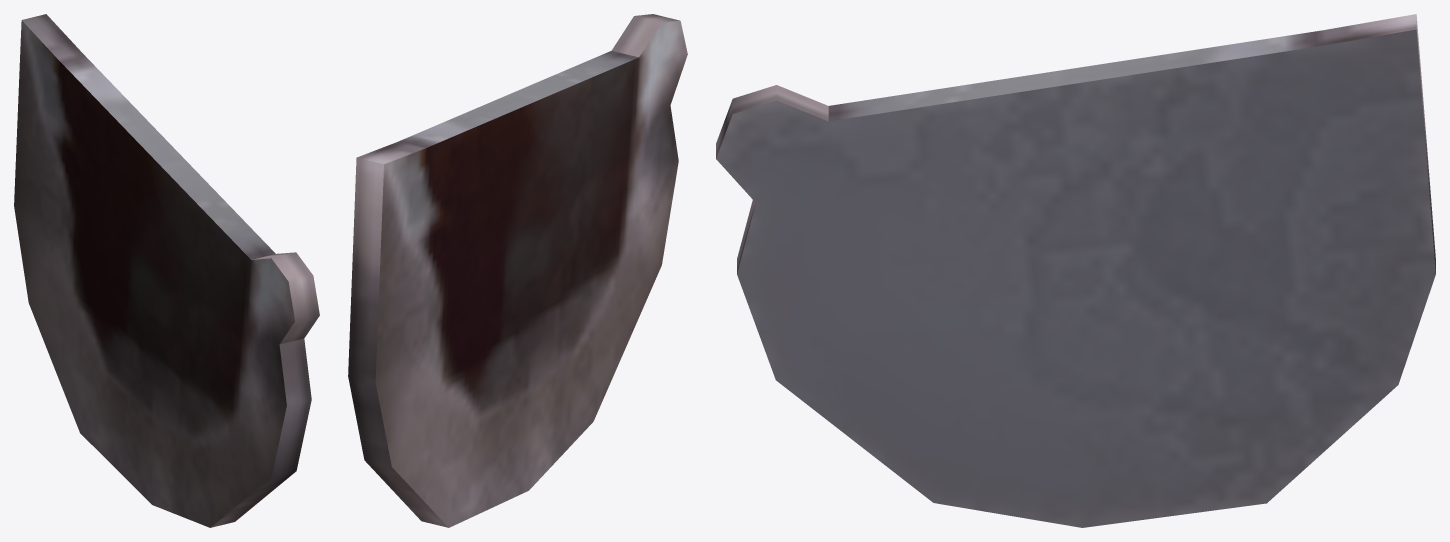
The model's file is PropRoofDrainage01_2.FBX.
3 views of the same model, side by side, from view 1: azimuth 30°, elevation 25°; view 2: azimuth 150°, elevation 25°; view 3: azimuth 270°, elevation 25° (orthographic). The views are drawn at different scales.
Visible parts, largest first — view 1: PropRoofDrainage01_2; view 2: PropRoofDrainage01_2; view 3: PropRoofDrainage01_2.
Part boxes in pixels (left/top/right/bottom): PropRoofDrainage01_2: left=14, top=14, right=319, bottom=527; PropRoofDrainage01_2: left=348, top=14, right=687, bottom=527; PropRoofDrainage01_2: left=716, top=14, right=1435, bottom=527.
Size of what is drawn, in the model's own units: 0.0124 by 0.186 by 0.2435.
